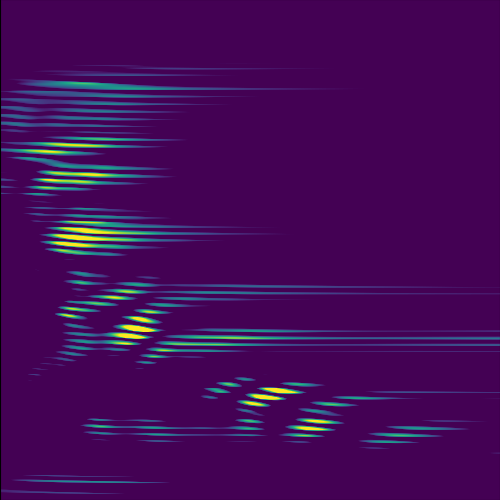semblance: (44, 214, 134, 259), (107, 305, 172, 352), (36, 161, 119, 194), (236, 376, 302, 417), (21, 135, 110, 157), (294, 411, 338, 435), (152, 335, 185, 362), (99, 288, 147, 302)
